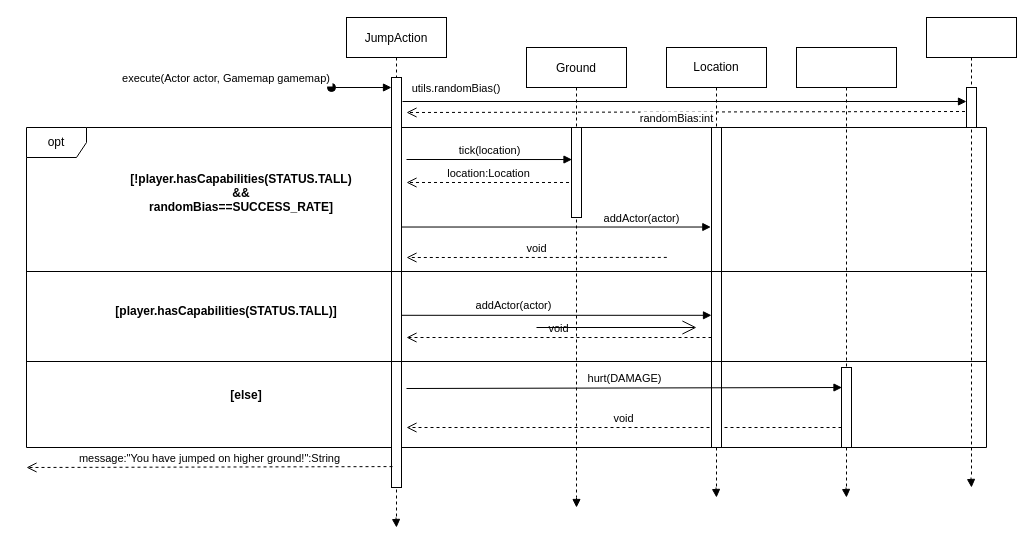
The diagram is 1034 pixels wide and 553 high, and some of its shapes have lost their labels. The box of each missing label's shape, as (x1, y1, x2, y2) in pixels:
Player: (796, 46, 896, 488)
Utils: (926, 16, 1016, 478)
